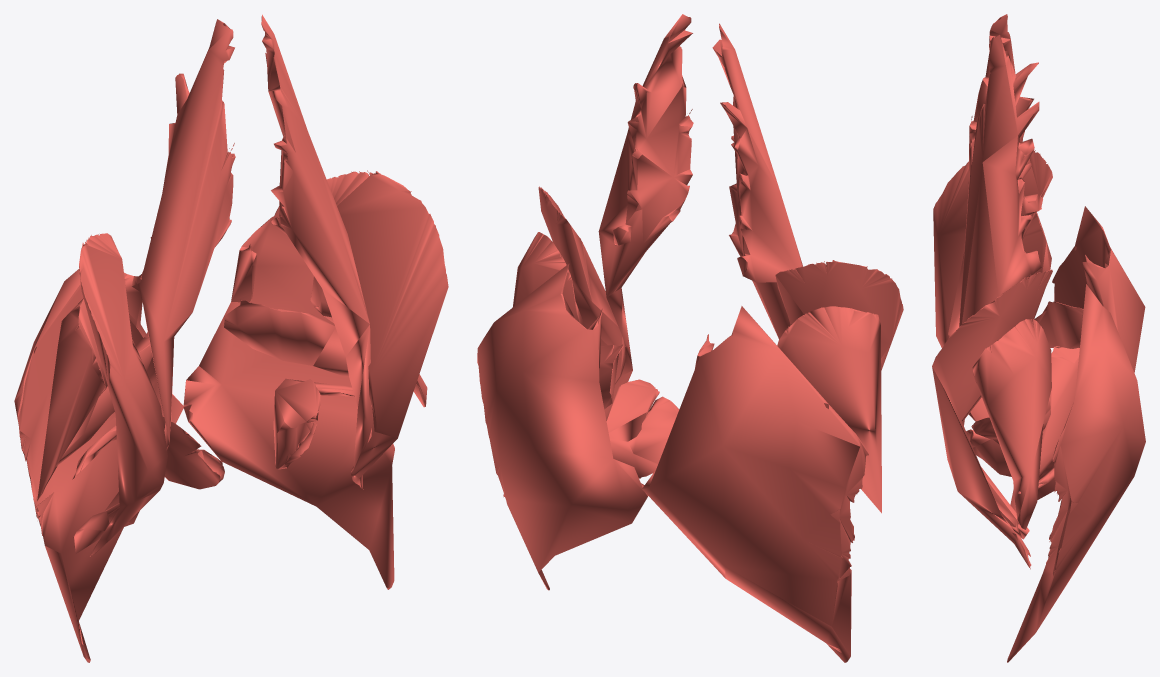
The model's file is supplement-hip-pelvis-muscle-QLSKSQUT.glb.
3 renders of one model, left to right at view 1: azimuth 30°, elevation 25°; view 2: azimuth 150°, elevation 25°; view 3: azimuth 270°, elevation 25°, orthographic. The views are drawn at different scales.
Visible parts, largest first — view 1: hip-pelvis:gluteus-maximus:isa:FJ1418M, hip-pelvis:psoas-major:isa:FJ1431, hip-pelvis:iliacus:isa:FJ1422M, hip-pelvis:gluteus-maximus:isa:FJ1418, hip-pelvis:psoas-major:isa:FJ1431M, hip-pelvis:iliacus:isa:FJ1422, hip-pelvis:gluteus-minimus:isa:FJ1420, hip-pelvis:piriformis:isa:FJ1428M, hip-pelvis:obturator-internus:isa:FJ1426M, hip-pelvis:obturator-internus:isa:FJ1426, hip-pelvis:piriformis:isa:FJ1428, hip-pelvis:gluteus-minimus:isa:FJ1420M; view 2: hip-pelvis:gluteus-maximus:isa:FJ1418, hip-pelvis:gluteus-maximus:isa:FJ1418M, hip-pelvis:psoas-major:isa:FJ1431M, hip-pelvis:gluteus-minimus:isa:FJ1420, hip-pelvis:psoas-major:isa:FJ1431, hip-pelvis:iliacus:isa:FJ1422, hip-pelvis:obturator-internus:isa:FJ1426M, hip-pelvis:iliacus:isa:FJ1422M, hip-pelvis:gluteus-minimus:isa:FJ1420M, hip-pelvis:piriformis:isa:FJ1428M; view 3: hip-pelvis:gluteus-maximus:isa:FJ1418M, hip-pelvis:psoas-major:isa:FJ1431M, hip-pelvis:iliacus:isa:FJ1422M, hip-pelvis:gluteus-minimus:isa:FJ1420M, hip-pelvis:gluteus-maximus:isa:FJ1418, hip-pelvis:iliacus:isa:FJ1422, hip-pelvis:psoas-major:isa:FJ1431, hip-pelvis:piriformis:isa:FJ1428M, hip-pelvis:piriformis:isa:FJ1428, hip-pelvis:obturator-internus:isa:FJ1426M, hip-pelvis:gluteus-minimus:isa:FJ1420, hip-pelvis:obturator-internus:isa:FJ1426.
Part boxes in pixels (box(x1,y1,x2,y2)): hip-pelvis:gluteus-maximus:isa:FJ1418M: box(183, 206, 394, 589); hip-pelvis:psoas-major:isa:FJ1431: box(73, 19, 235, 553); hip-pelvis:iliacus:isa:FJ1422M: box(326, 170, 448, 489); hip-pelvis:gluteus-maximus:isa:FJ1418: box(14, 269, 183, 662); hip-pelvis:psoas-major:isa:FJ1431M: box(261, 14, 372, 472); hip-pelvis:iliacus:isa:FJ1422: box(79, 233, 167, 556); hip-pelvis:gluteus-minimus:isa:FJ1420: box(37, 298, 107, 500); hip-pelvis:piriformis:isa:FJ1428M: box(223, 300, 418, 377); hip-pelvis:obturator-internus:isa:FJ1426M: box(273, 378, 354, 469); hip-pelvis:obturator-internus:isa:FJ1426: box(72, 416, 224, 489); hip-pelvis:piriformis:isa:FJ1428: box(56, 332, 152, 466); hip-pelvis:gluteus-minimus:isa:FJ1420M: box(310, 276, 427, 407); hip-pelvis:gluteus-maximus:isa:FJ1418: box(642, 306, 868, 662); hip-pelvis:gluteus-maximus:isa:FJ1418M: box(477, 263, 647, 590); hip-pelvis:psoas-major:isa:FJ1431M: box(598, 14, 693, 420); hip-pelvis:gluteus-minimus:isa:FJ1420: box(777, 306, 881, 513); hip-pelvis:psoas-major:isa:FJ1431: box(712, 23, 803, 339); hip-pelvis:iliacus:isa:FJ1422: box(775, 260, 903, 370); hip-pelvis:obturator-internus:isa:FJ1426M: box(606, 379, 679, 478); hip-pelvis:iliacus:isa:FJ1422M: box(538, 186, 621, 383); hip-pelvis:gluteus-minimus:isa:FJ1420M: box(512, 232, 579, 322); hip-pelvis:piriformis:isa:FJ1428M: box(599, 344, 623, 409); hip-pelvis:gluteus-maximus:isa:FJ1418M: box(1007, 284, 1145, 662); hip-pelvis:psoas-major:isa:FJ1431M: box(959, 34, 1041, 539); hip-pelvis:iliacus:isa:FJ1422M: box(932, 269, 1052, 569); hip-pelvis:gluteus-minimus:isa:FJ1420M: box(972, 319, 1051, 529); hip-pelvis:gluteus-maximus:isa:FJ1418: box(1010, 206, 1145, 512); hip-pelvis:iliacus:isa:FJ1422: box(933, 150, 1052, 347); hip-pelvis:psoas-major:isa:FJ1431: box(948, 14, 1042, 336); hip-pelvis:piriformis:isa:FJ1428M: box(1018, 346, 1079, 493); hip-pelvis:piriformis:isa:FJ1428: box(1034, 301, 1083, 348); hip-pelvis:obturator-internus:isa:FJ1426M: box(966, 417, 1054, 488); hip-pelvis:gluteus-minimus:isa:FJ1420: box(1022, 212, 1051, 318); hip-pelvis:obturator-internus:isa:FJ1426: box(968, 397, 1050, 429).
Size of the model in its own units: 0.2908 by 0.431 by 0.1464.
